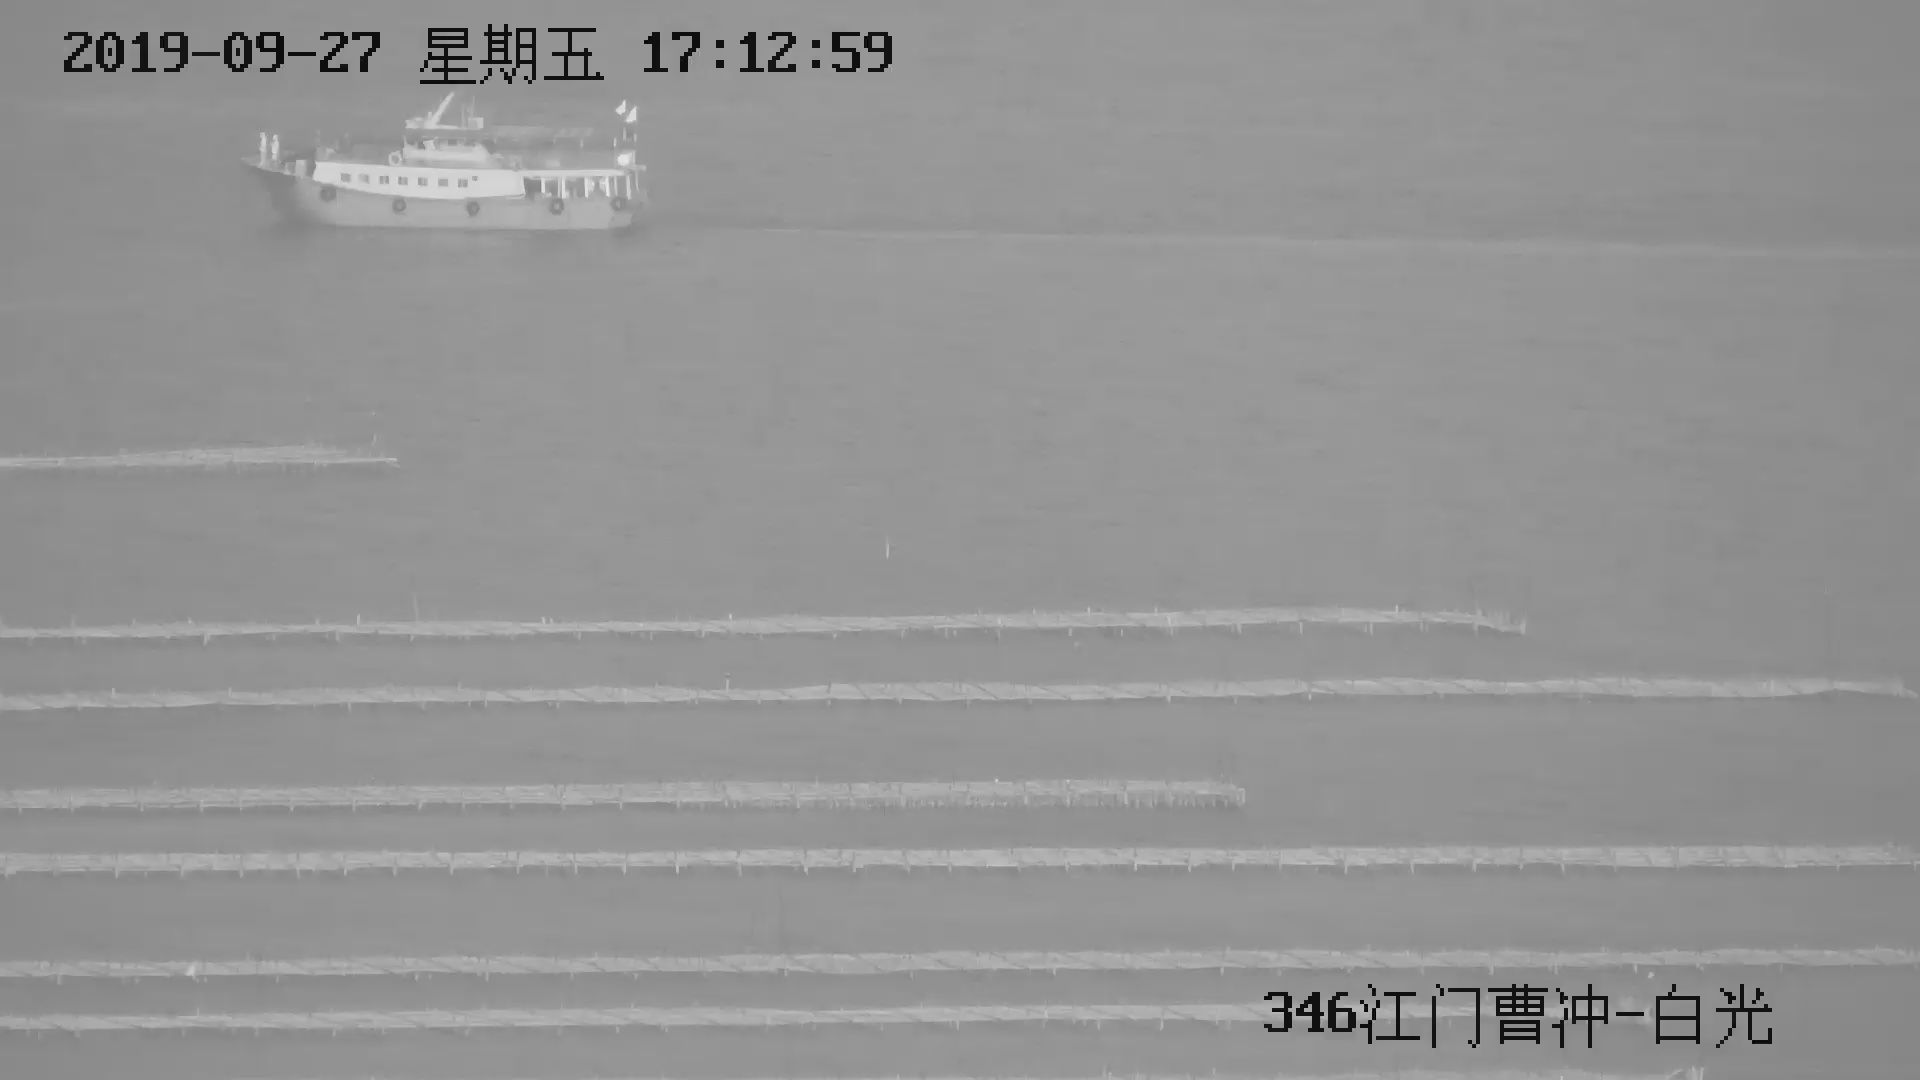ship: (240, 99, 649, 225)
